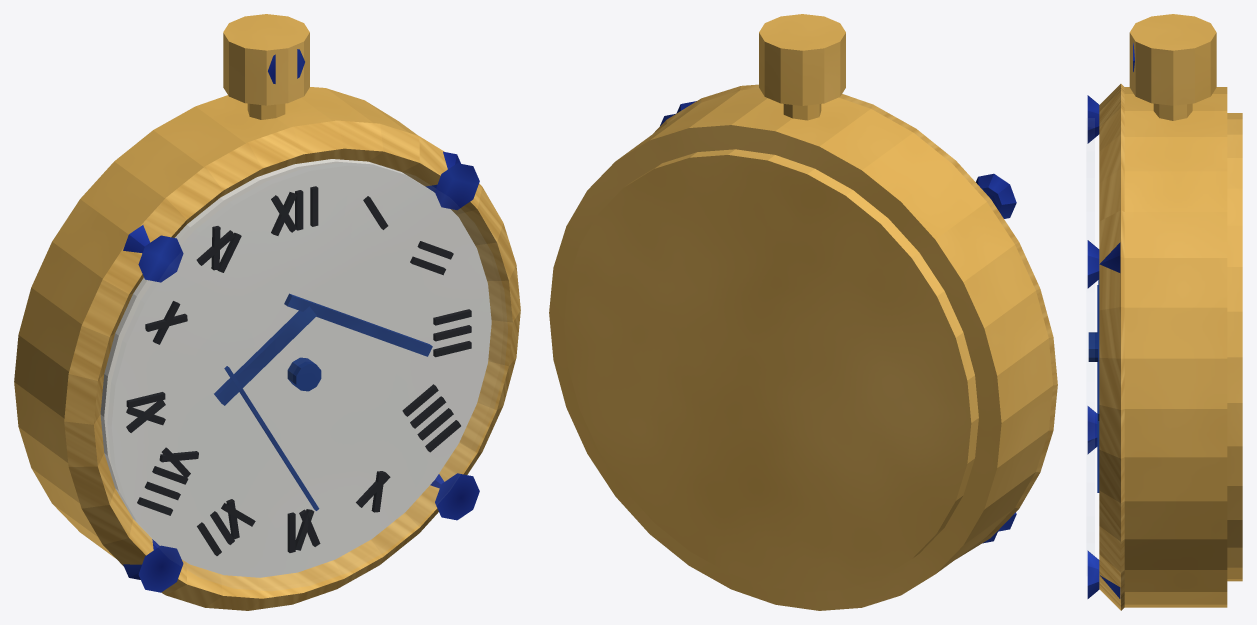
The model's file is mdl_reloj_legado.fbx.
3 renders of one model, left to right at view 1: azimuth 30°, elevation 25°; view 2: azimuth 150°, elevation 25°; view 3: azimuth 270°, elevation 25°, orthographic.
Parts seen in each view (by area): view 1: esmalte_blanco, metal_oro_cepillado, metal_oro_pulido, esmalte_negro, gema_zafiro, esmalte_azul; view 2: metal_oro_pulido, metal_oro_cepillado, gema_zafiro; view 3: metal_oro_pulido, metal_oro_cepillado, gema_zafiro, esmalte_azul.
Part boxes in pixels (left/top/right/bottom): esmalte_blanco: left=100, top=159, right=491, bottom=577; metal_oro_cepillado: left=64, top=120, right=520, bottom=610; metal_oro_pulido: left=14, top=14, right=418, bottom=558; esmalte_negro: left=126, top=186, right=471, bottom=555; gema_zafiro: left=123, top=49, right=479, bottom=592; esmalte_azul: left=214, top=293, right=432, bottom=510; metal_oro_pulido: left=549, top=14, right=1052, bottom=610; metal_oro_cepillado: left=653, top=84, right=1057, bottom=558; gema_zafiro: left=660, top=101, right=1016, bottom=543; metal_oro_pulido: left=1124, top=14, right=1242, bottom=607; metal_oro_cepillado: left=1099, top=84, right=1124, bottom=610; gema_zafiro: left=1087, top=43, right=1134, bottom=598; esmalte_azul: left=1088, top=279, right=1099, bottom=492.
Bounding box in the file's own units: 122 × 141 × 36.
